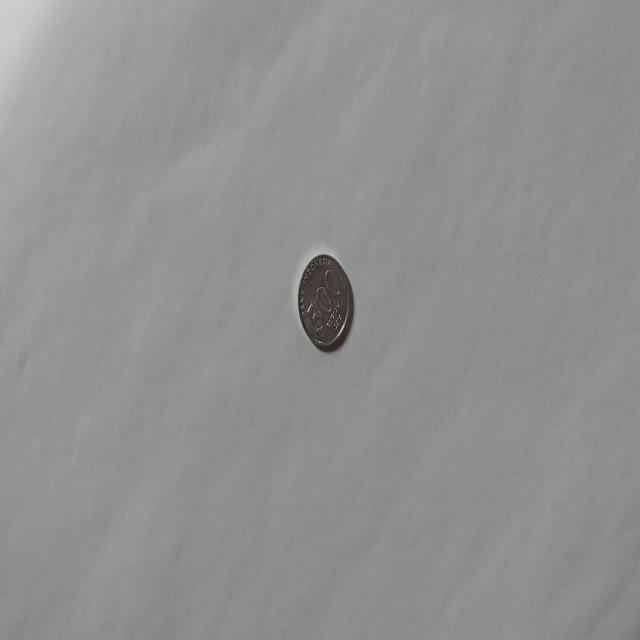lima ratus rupiah: (296, 252, 352, 352)
